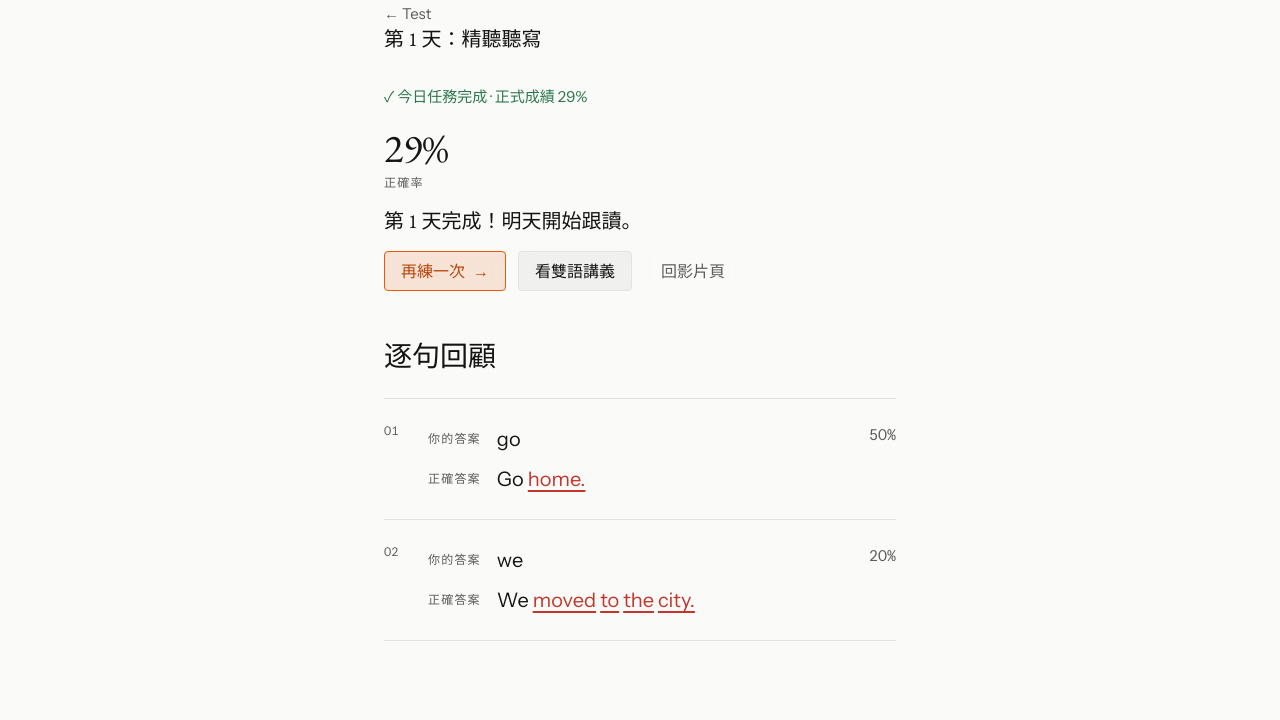
retry › can practice again after a retry
Click the button "再練一次 →" at (445, 271), box [384, 251, 506, 291]
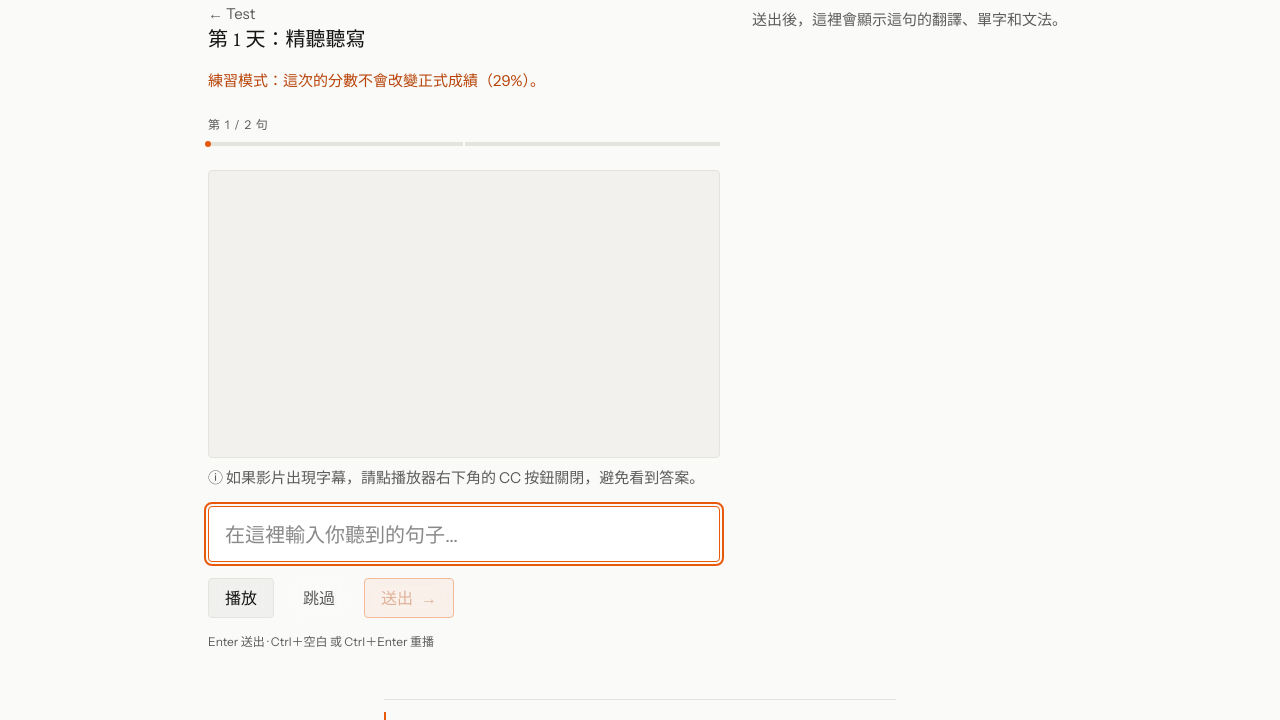
Type "go home" into the text box labelled "你聽到的句子" at (464, 534), box [208, 506, 720, 562]
Then press Enter
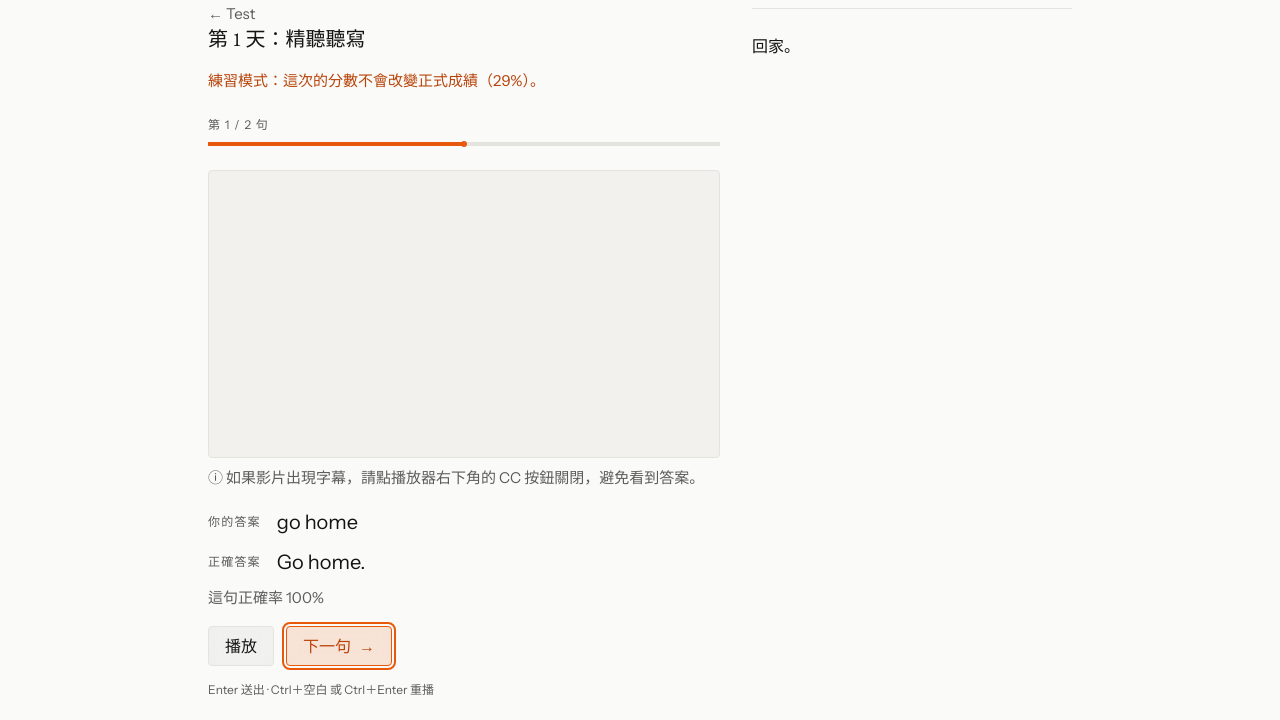
Press Enter
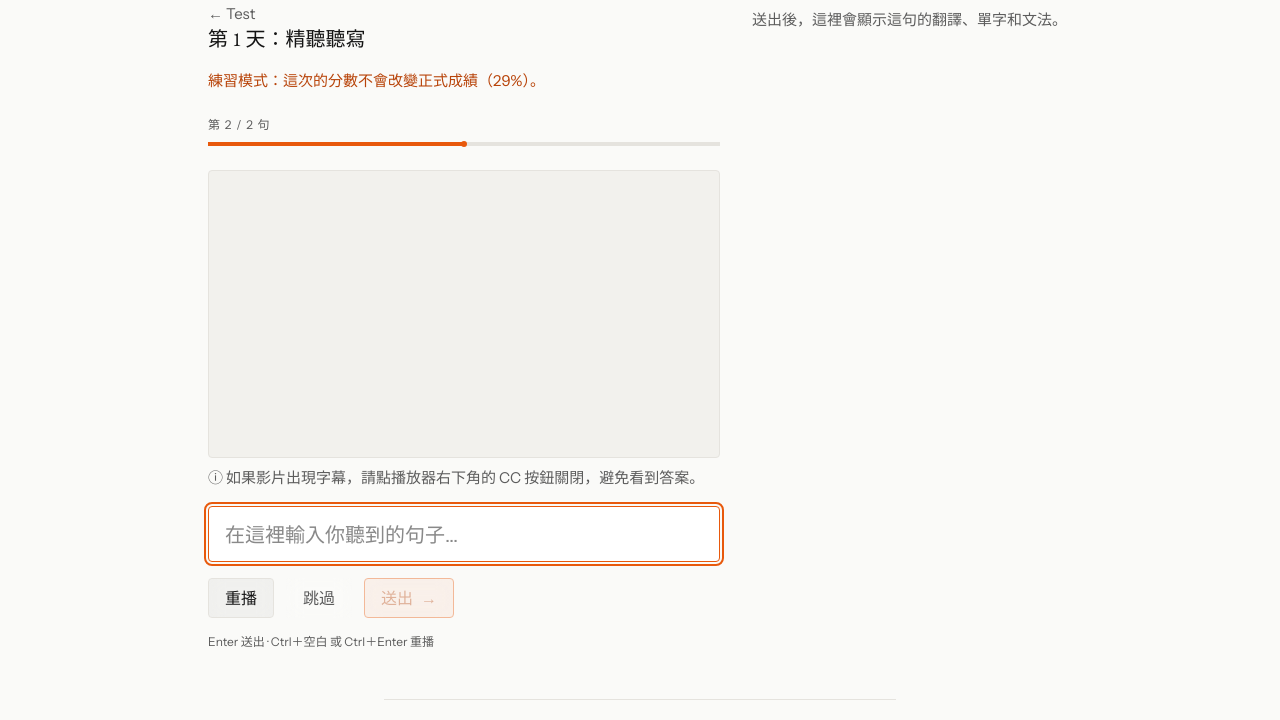
Type "x" into the text box labelled "你聽到的句子" at (464, 534), box [208, 506, 720, 562]
Then press Enter
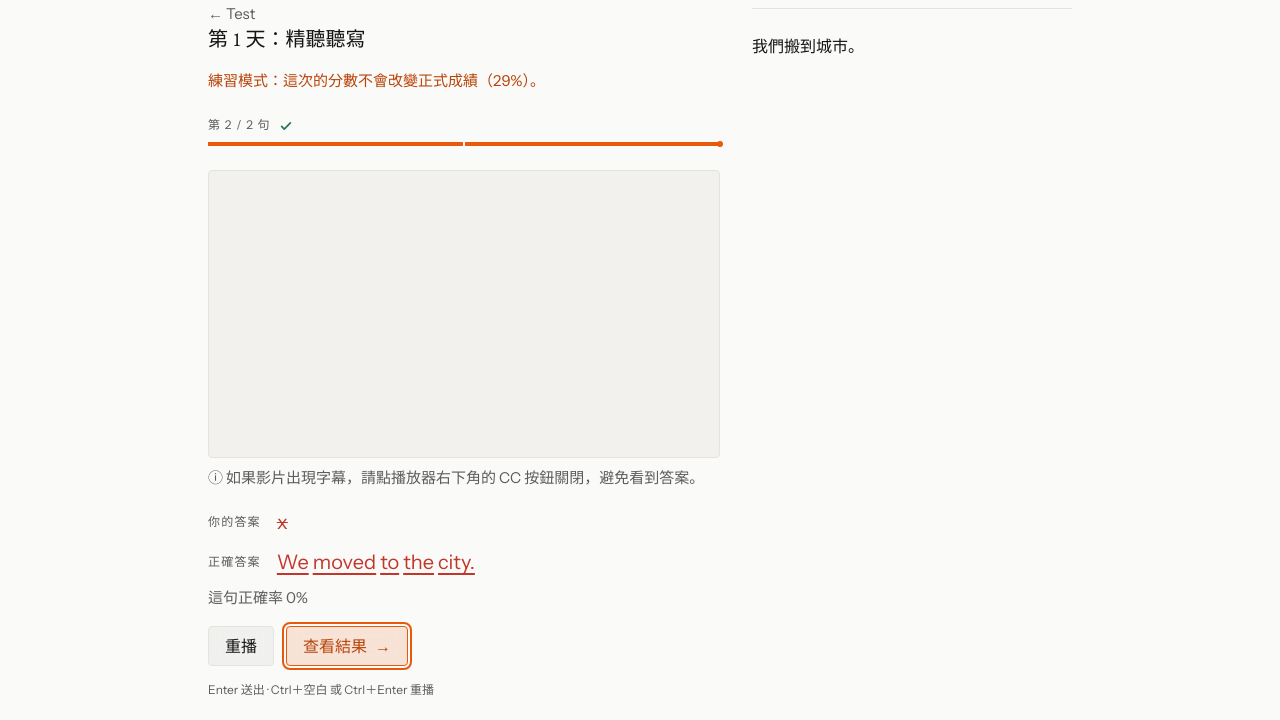
Press Enter
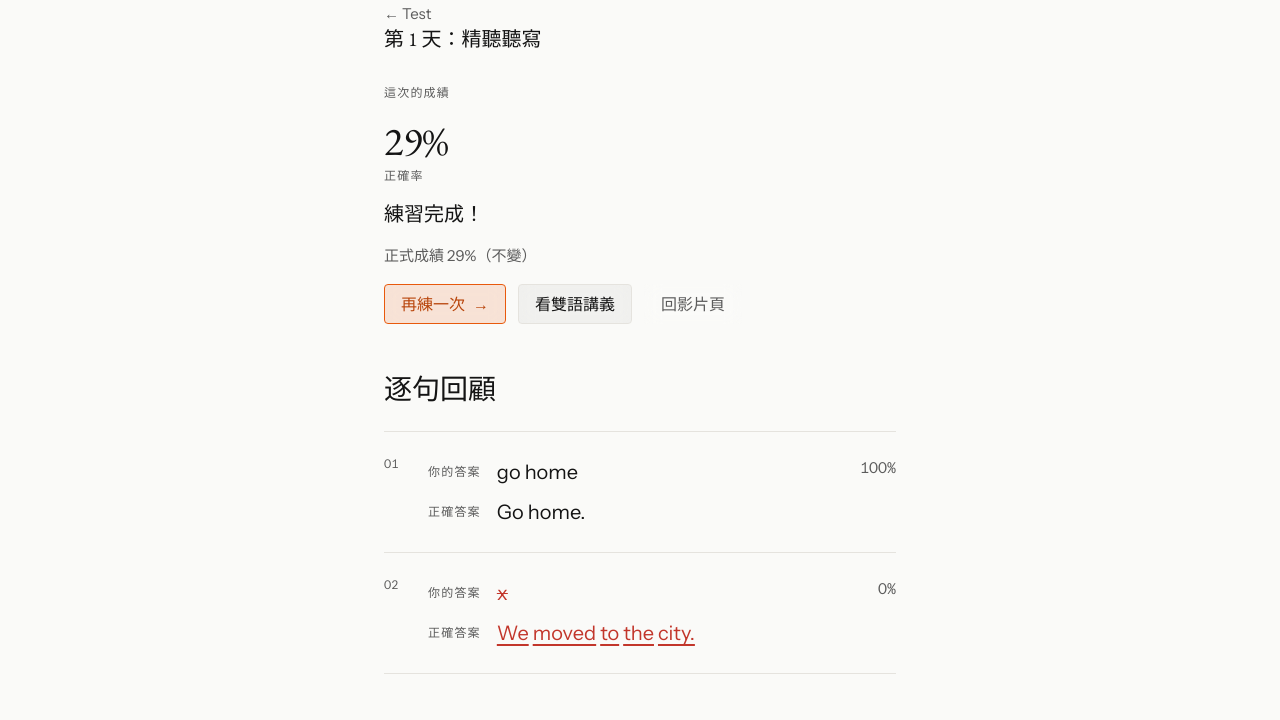
Click the button "再練一次 →" at (445, 304), box [384, 284, 506, 324]
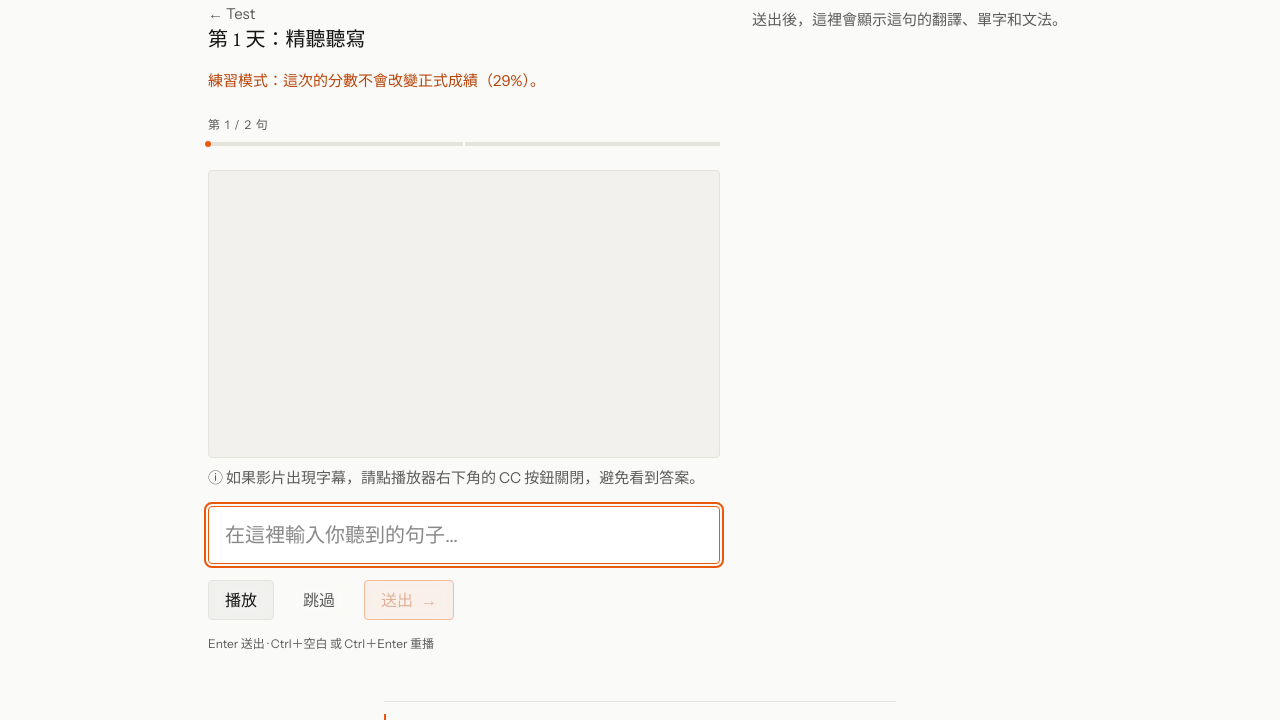
Now the text "第 1 / 2 句" is shown, box [208, 117, 269, 134]
Now the text box labelled "你聽到的句子" is empty, box [208, 506, 720, 564]
